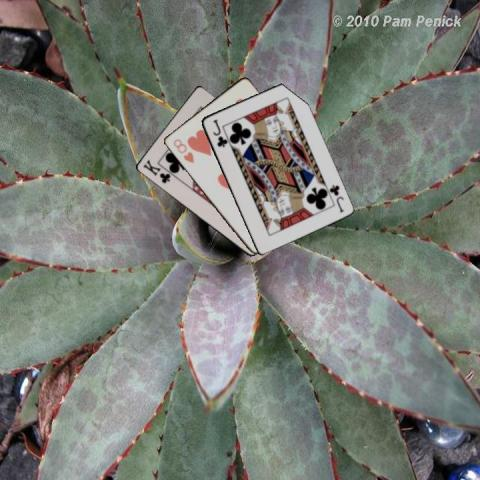8h: (170, 136, 195, 165)
Jc: (326, 182, 345, 214), (210, 117, 228, 148)
Kc: (140, 157, 171, 185)
